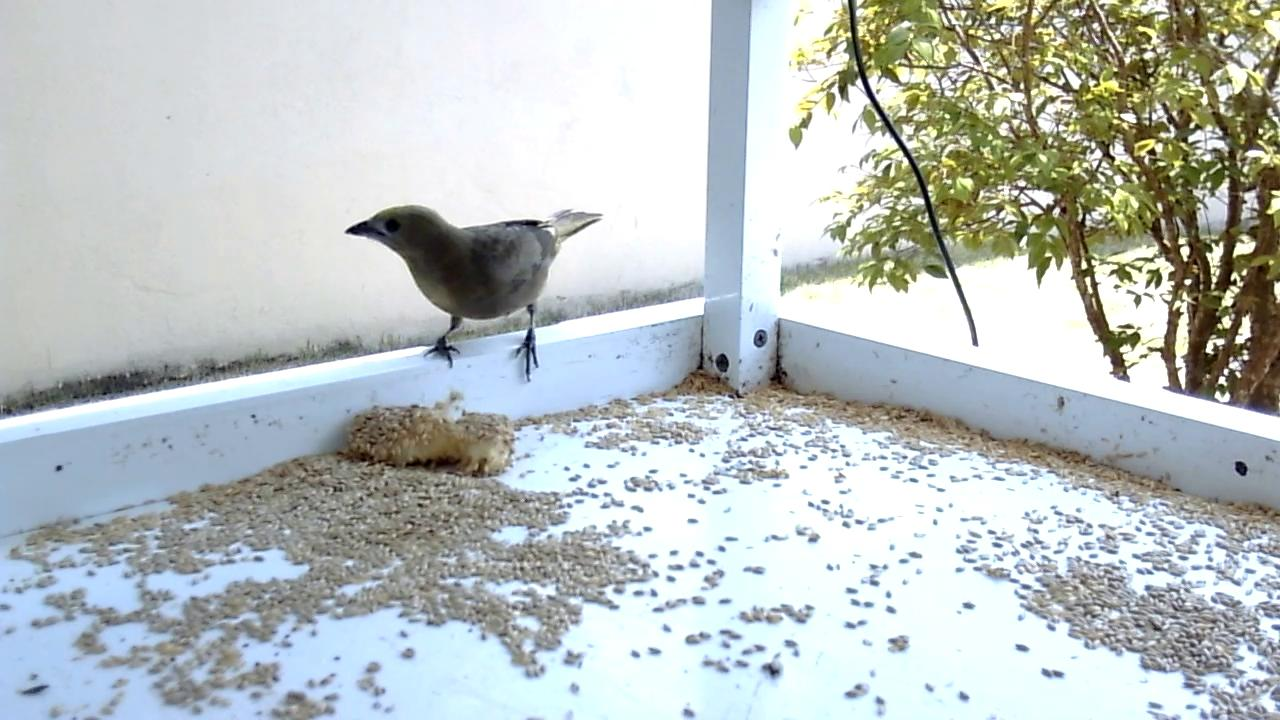sanhaco_do_coqueiro: (343, 201, 606, 387)
